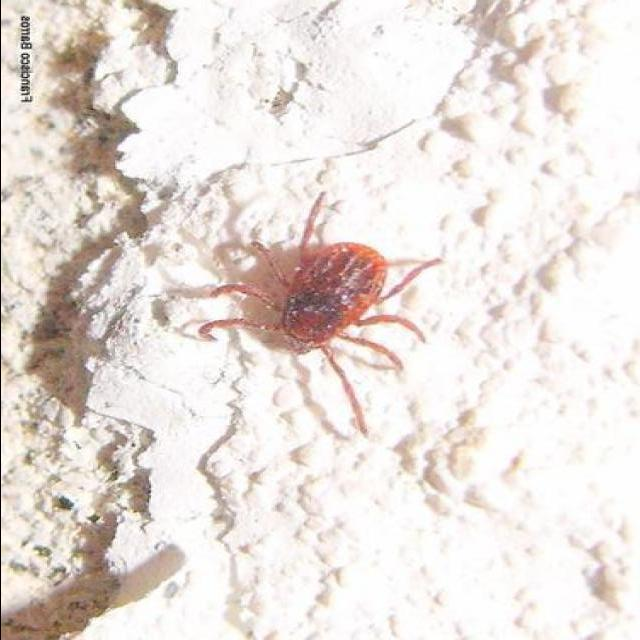Rhipicephalus Sanguineus-F: (194, 191, 437, 436)
